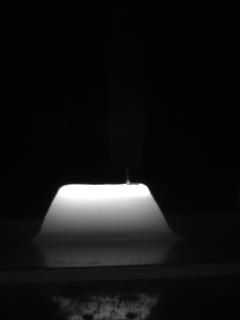tip_wire_left: (111, 162, 130, 184)
tip_wire_right: (126, 162, 142, 184)
